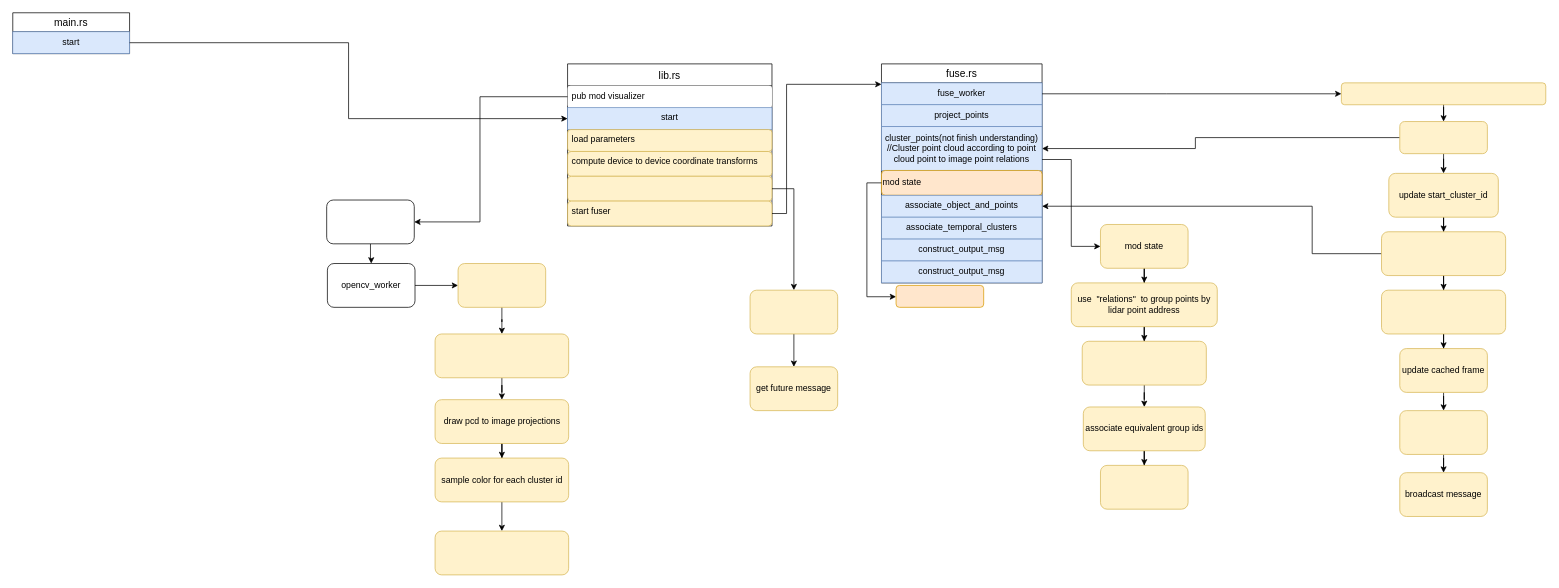
Image size: 1559x588. Some labels were removed from this diagram. Each missing label, with the centre of its shape:
associate objects and clusters: the point at 1443,253
cluster points: the point at 1443,137
compute pcd point to image point relations: the point at 1443,93
concurrent & parallel DBSCAN: the point at 1143,363
construct output message: the point at 1443,432
get message: the point at 501,285
get visualizer config: the point at 793,311
make prev_cluster_id_map: the point at 501,355
mod.rs: the point at 370,221
plot object cluster relations: the point at 501,552
pub struct PointState: the point at 939,296
relate clusters among previous and current frames: the point at 1443,311
start visualizers: the point at 669,188
update group ids on points: the point at 1144,487
